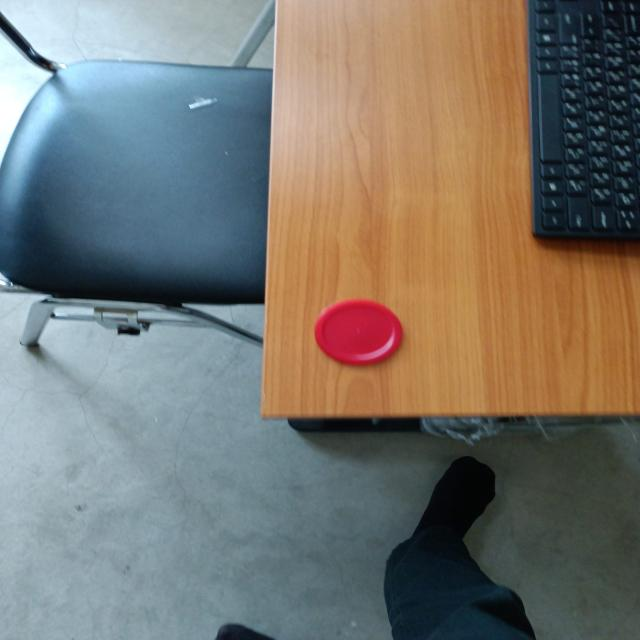chip: (314, 298, 406, 367)
